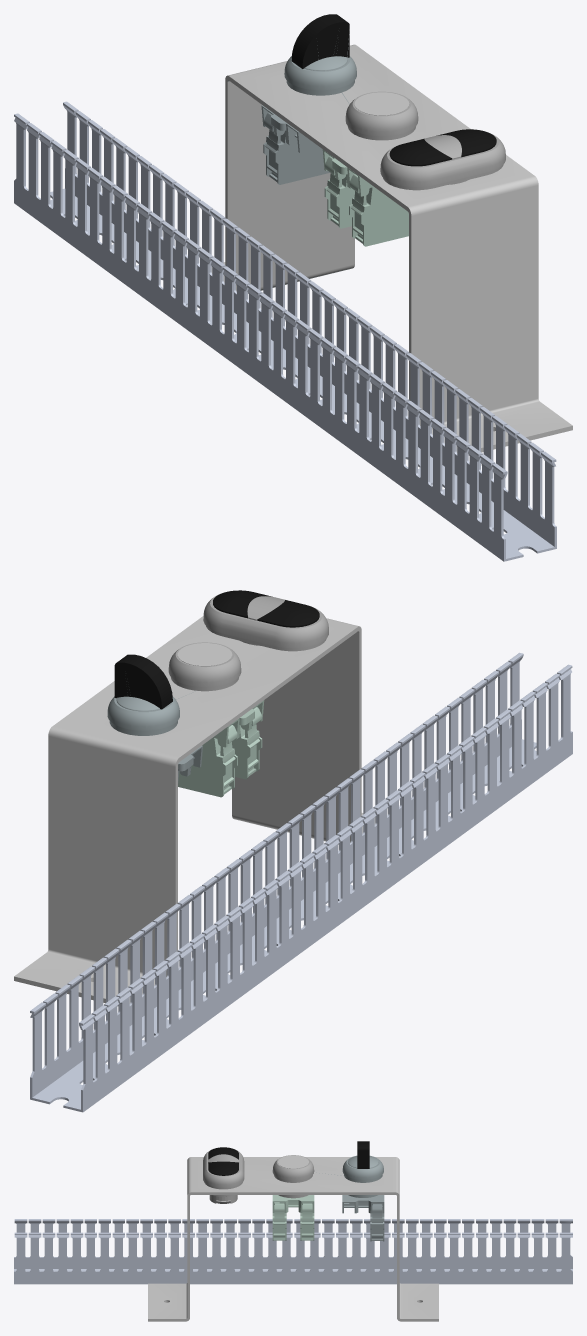
The model's file is operator_panel.obj.
The picture shows the model from 3 angles, top to bottom: view 1: azimuth 30°, elevation 25°; view 2: azimuth 150°, elevation 25°; view 3: azimuth 270°, elevation 25°; orthographic projection. The views are drawn at different scales.
Visible parts, largest first — view 1: operator_panel&duct.001; view 2: operator_panel&duct.001; view 3: operator_panel&duct.001.
Boxes of the visible parts, x1,y1,x2,y2 form: operator_panel&duct.001: [14, 14, 572, 561]; operator_panel&duct.001: [14, 590, 572, 1112]; operator_panel&duct.001: [14, 1141, 572, 1321].
Size of the model in its own units: 0.8891 by 1.3 by 4.04.
